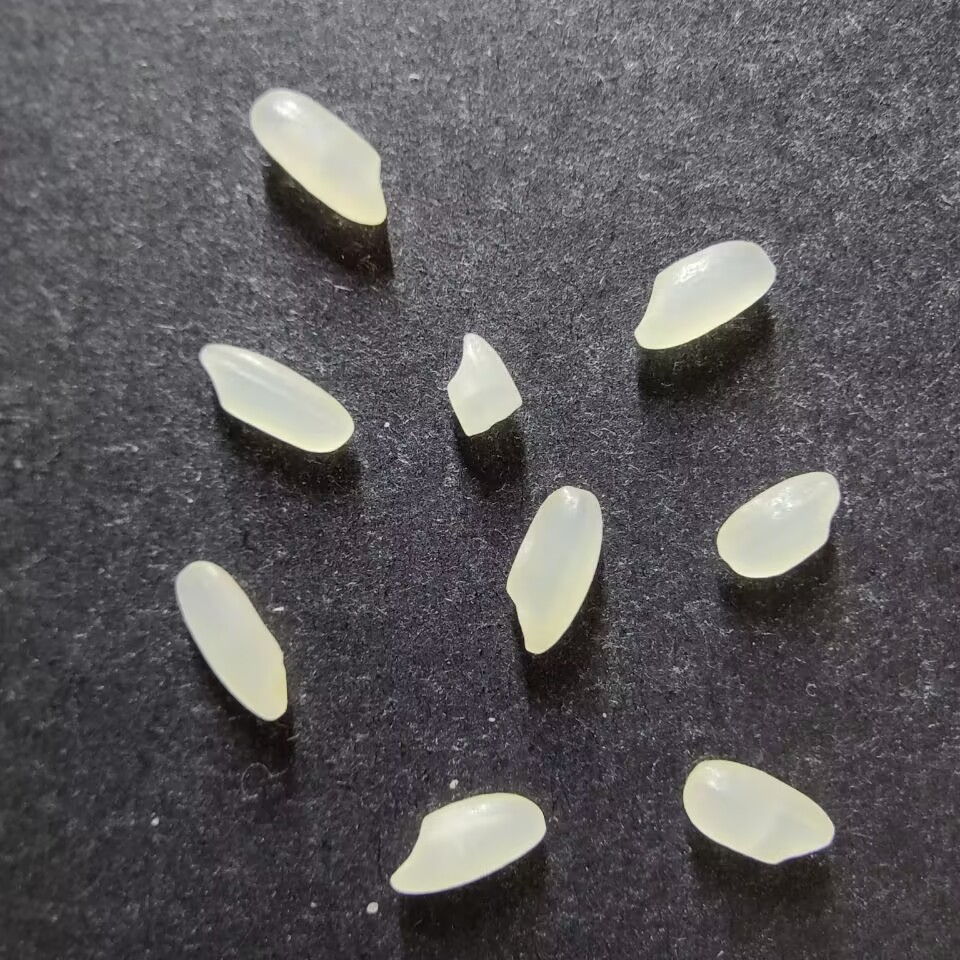broken: (446, 331, 522, 437)
rice: (249, 88, 389, 227), (174, 560, 288, 722), (198, 342, 354, 454), (504, 485, 603, 655), (682, 759, 835, 865), (389, 792, 545, 895), (633, 239, 775, 350), (715, 470, 841, 579)
